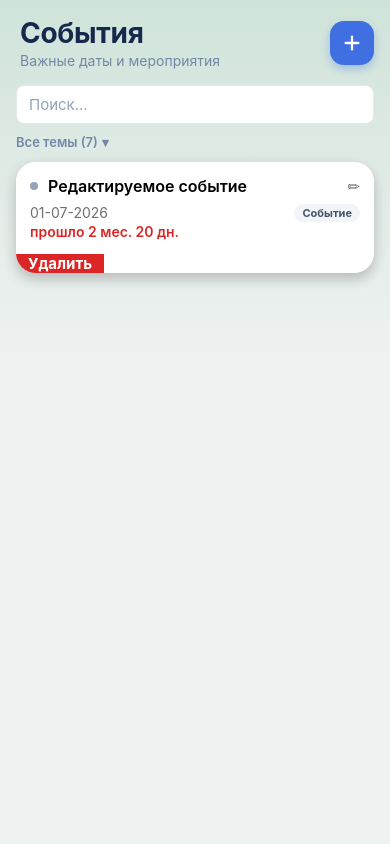
Test: Events screen (TASK_041) — swipe-to-delete › keeps the normal tap action (edit) working after the swipe redesign
The image size is (390, 844).
Step 1. Click the button "✏" → [352, 186], box top-left (343, 176), bottom-right (360, 196)
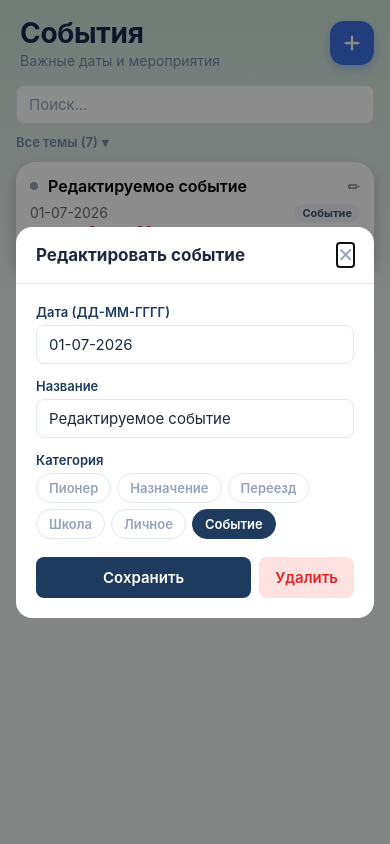
Expected: the field below "Название" is shown, top-left (36, 398), bottom-right (354, 438)
